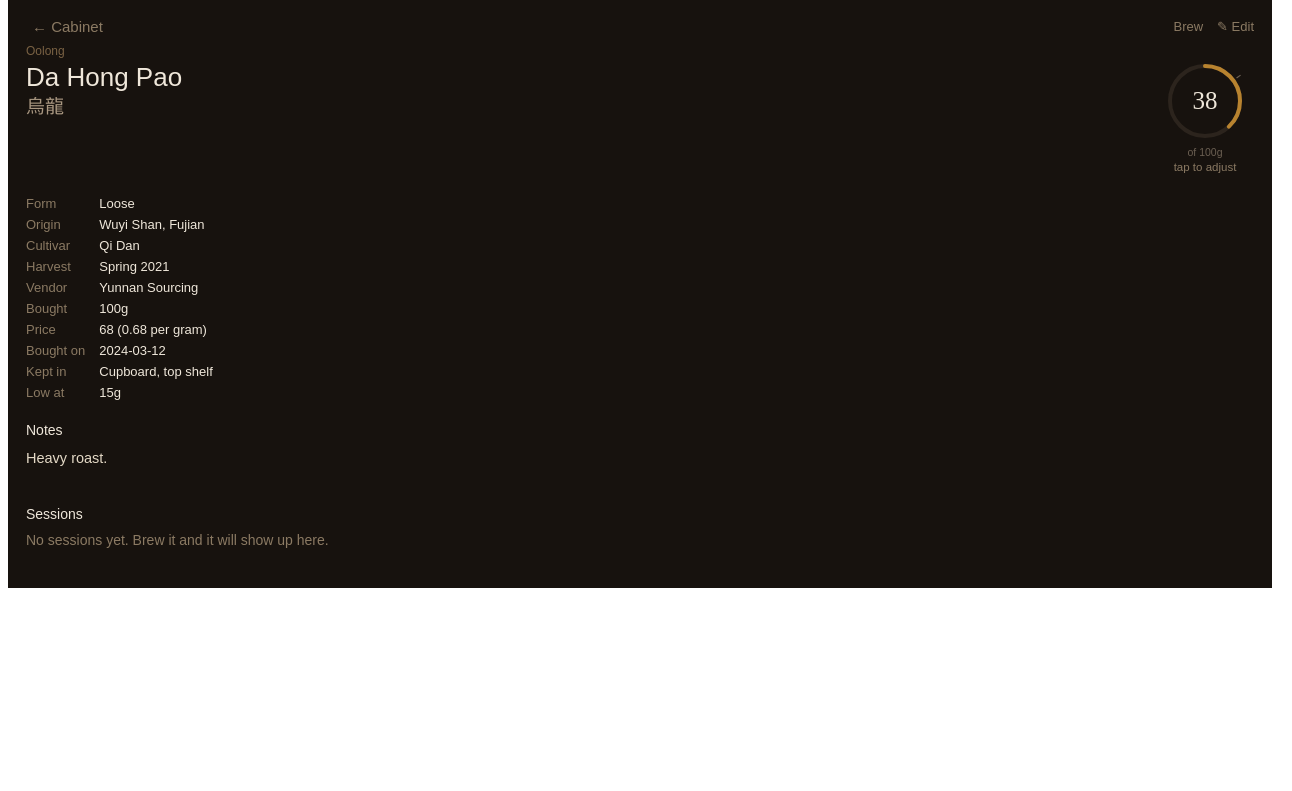
TeaDetailPage › names the removal action as what it does
Click the button with test id "tea-edit": click(1236, 26) [1217,15,1254,38]
(page scrolled)
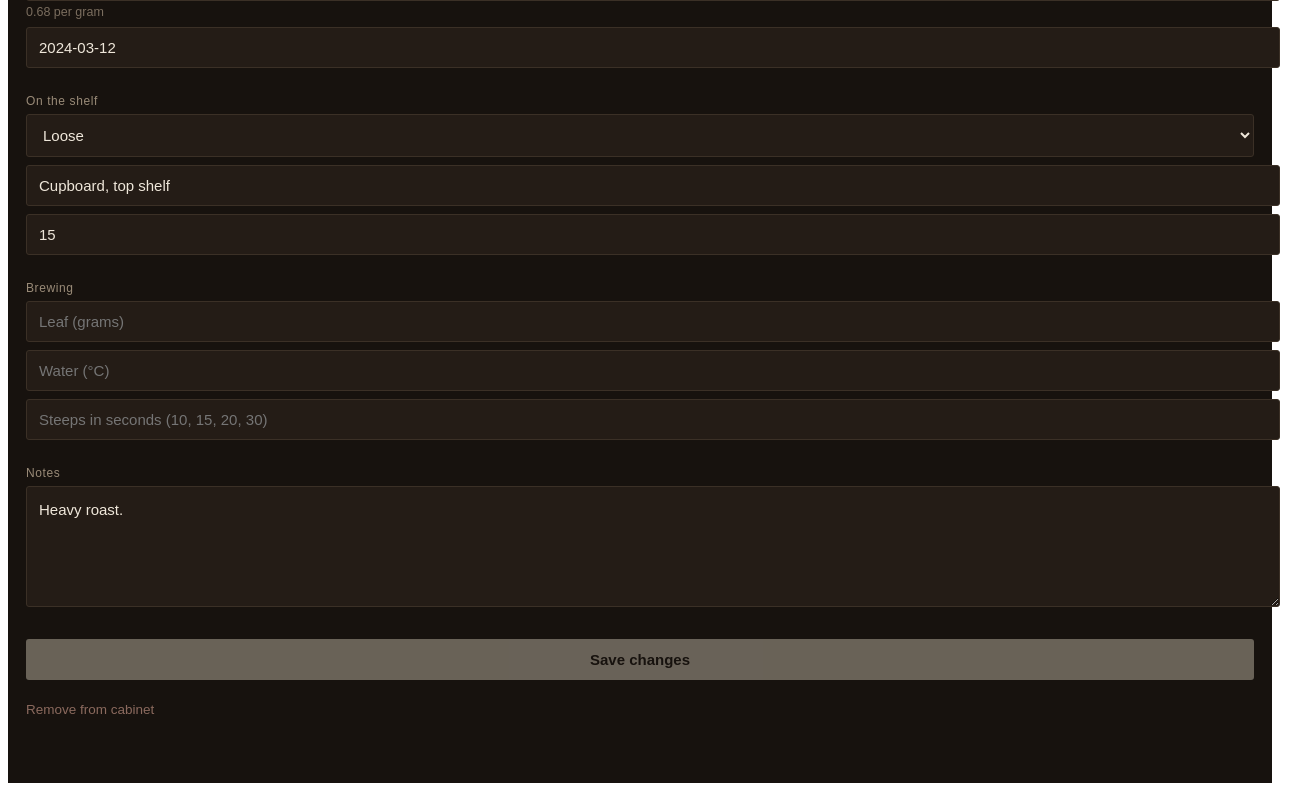
Expected: the button with test id "tea-remove" reads "Remove from cabinet", [8,680,172,743]
